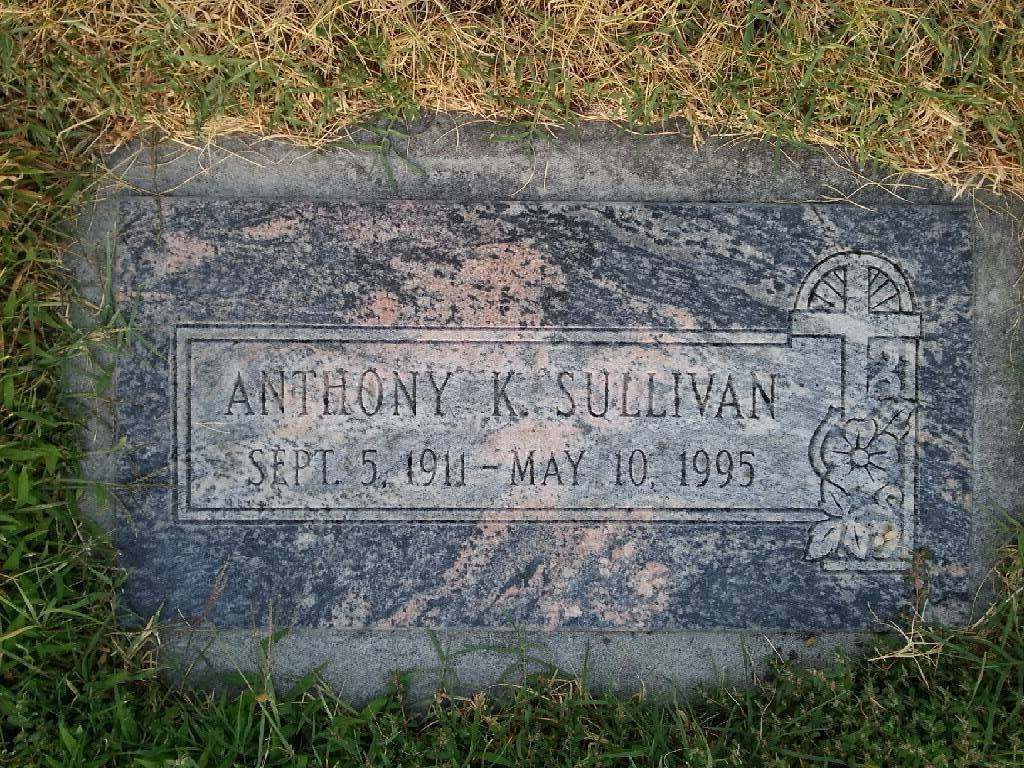flat: (89, 135, 1012, 656)
